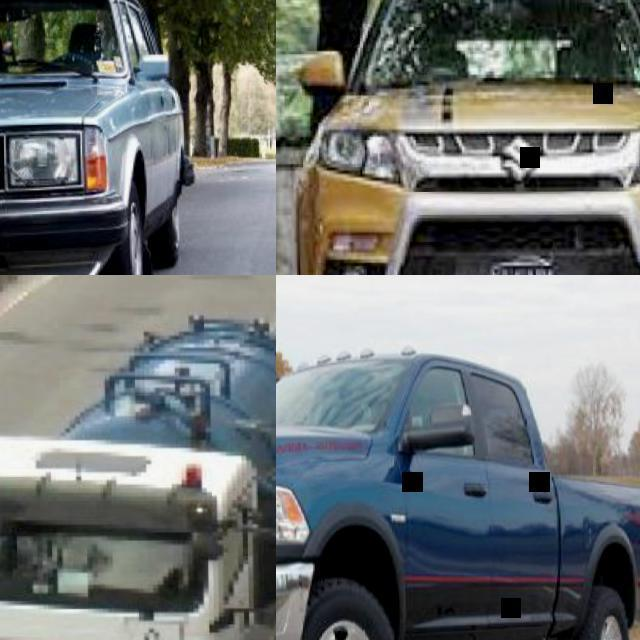car: (276, 328, 636, 639), (296, 0, 640, 280), (1, 311, 268, 614), (1, 0, 196, 269)
